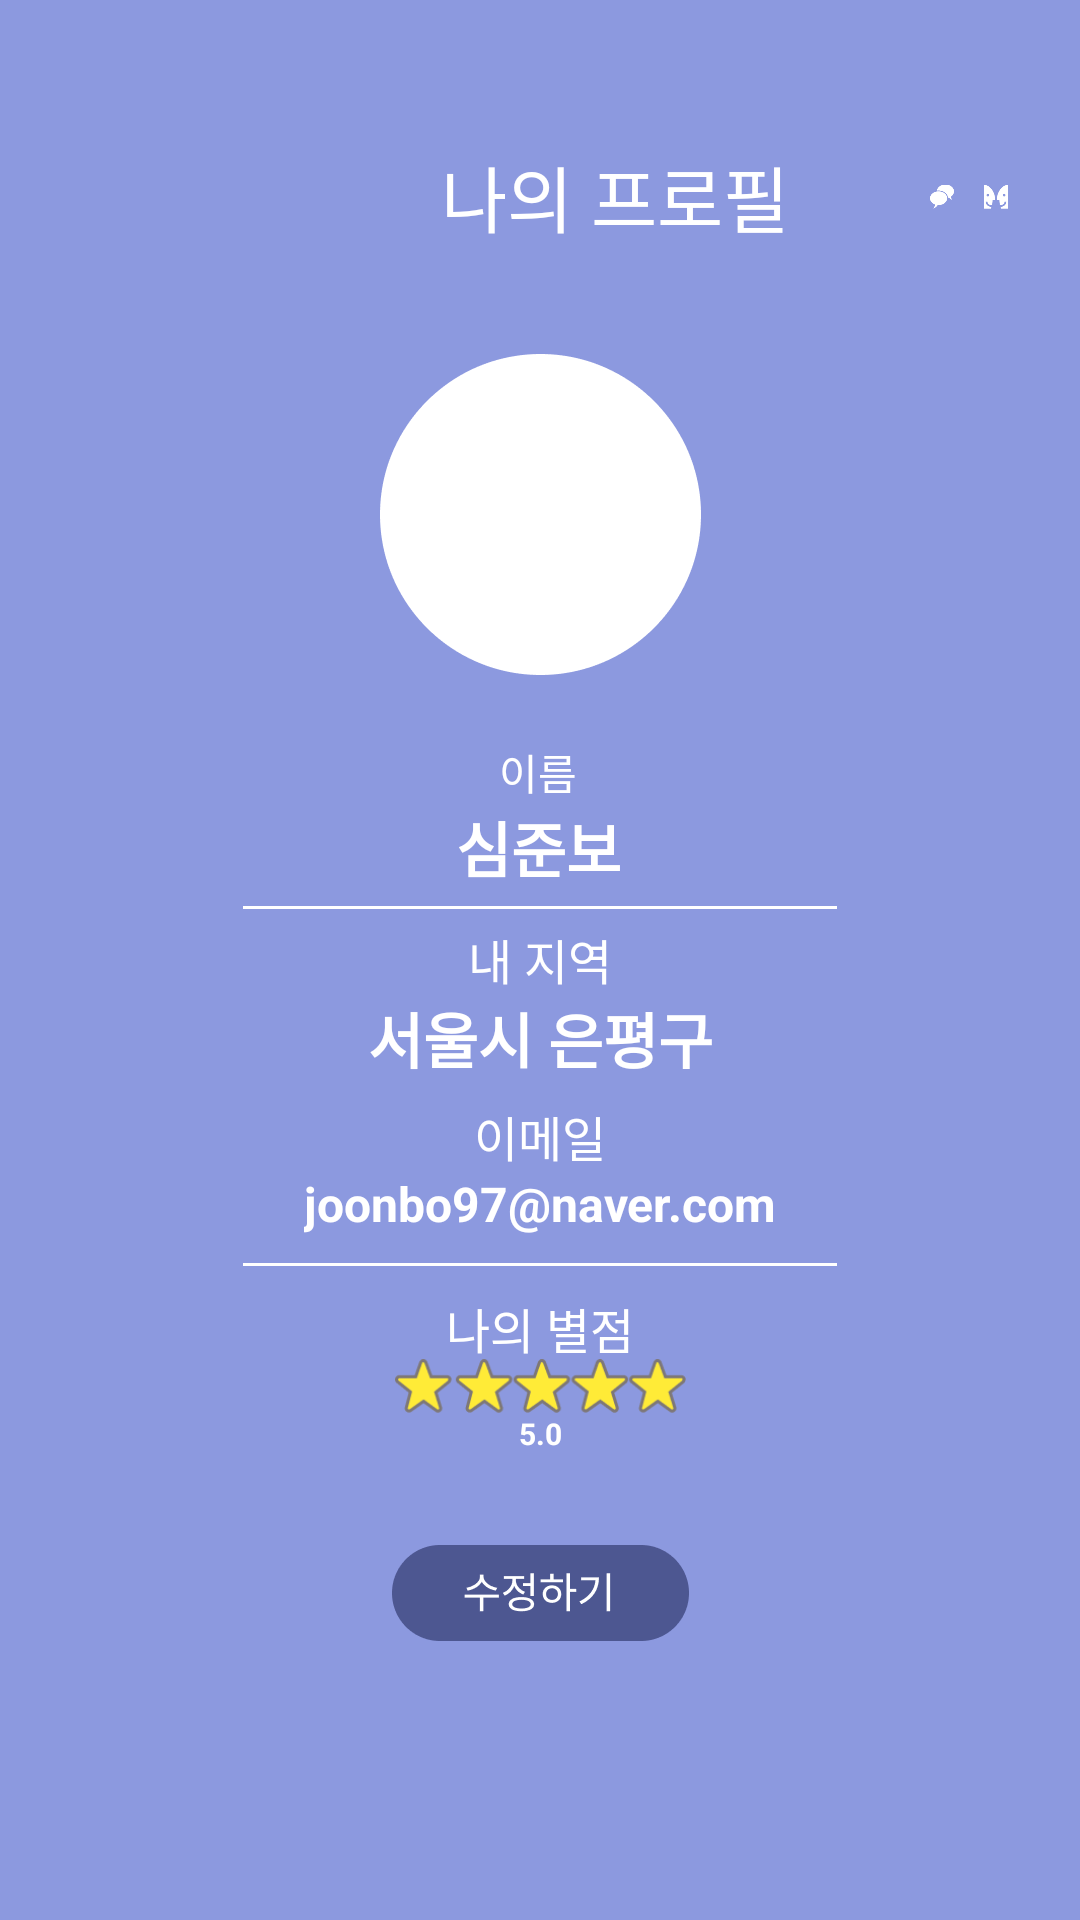

Locate icon controls on the screen. Image size 1080*1920, boxes as detection(x1, y1, x2, y2).
myprofile chat: detection(930, 185, 954, 209)
myprofile friend: detection(984, 185, 1008, 209)
star: detection(395, 1359, 686, 1413)
